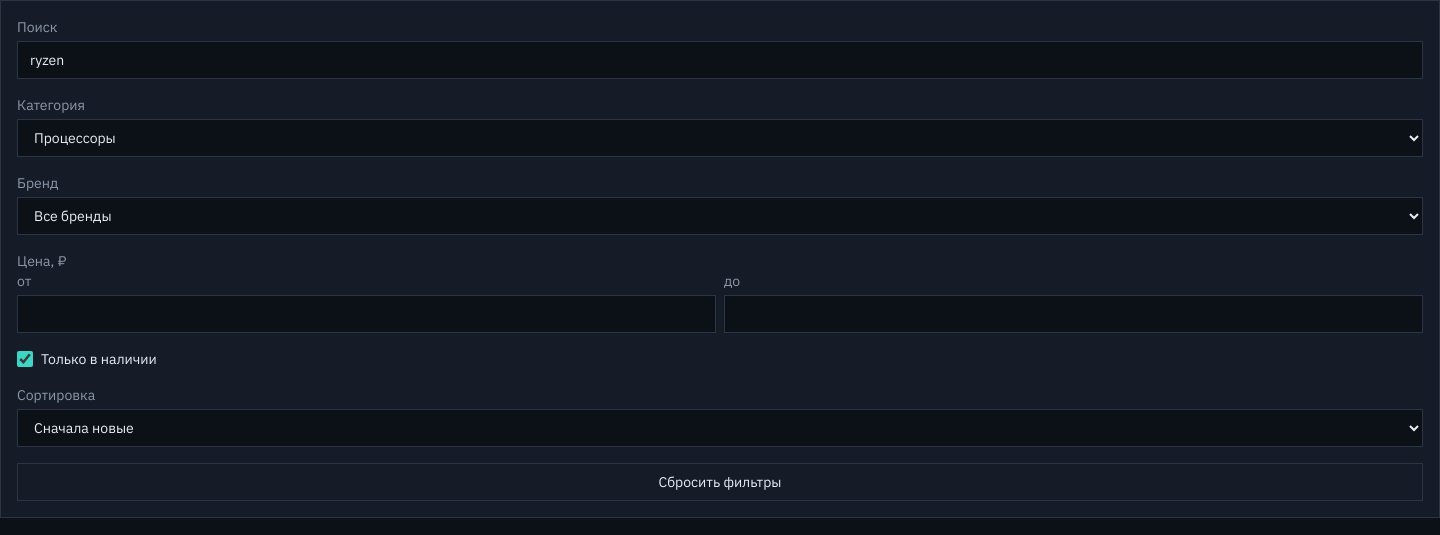
Test: CatalogFilters — address as the source of truth › clears every filter on reset
The image size is (1440, 535).
Click the button with test id "filter-reset" at {"x": 720, "y": 482}, box [17,463,1423,501]
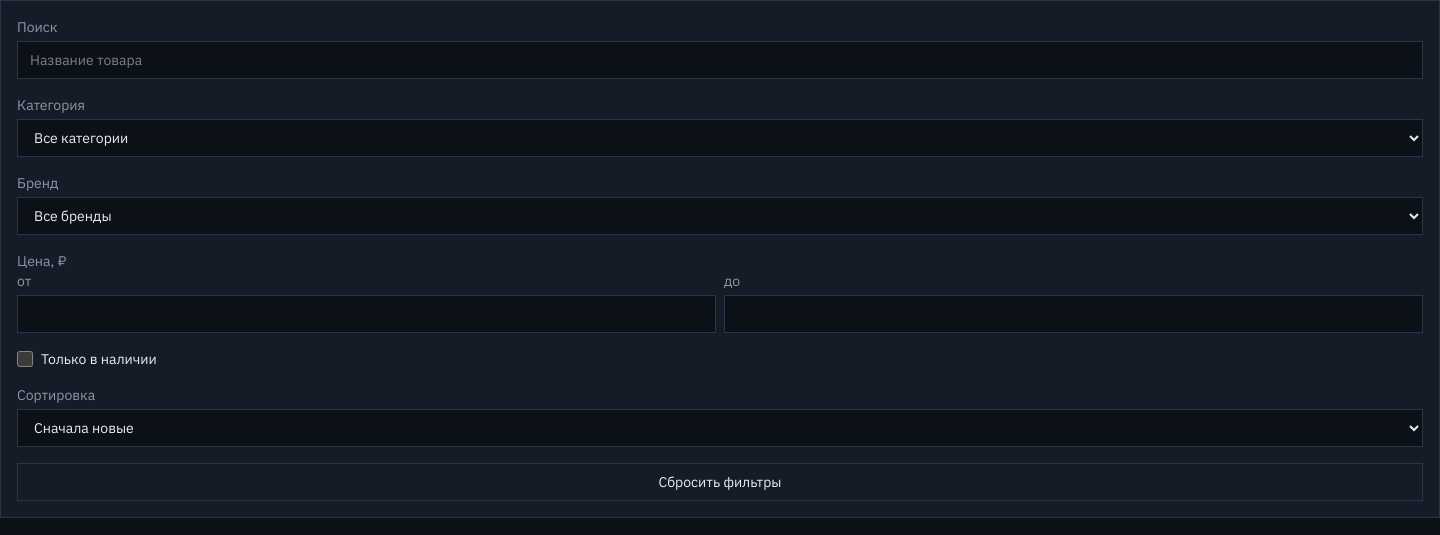
Expected: the search field with test id "filter-search" is empty, [17,41,1423,79]
Expected: the dropdown with test id "filter-category" shows "Все категории", [17,119,1423,157]
Expected: the checkbox with test id "filter-available" is not checked, [17,351,33,367]
